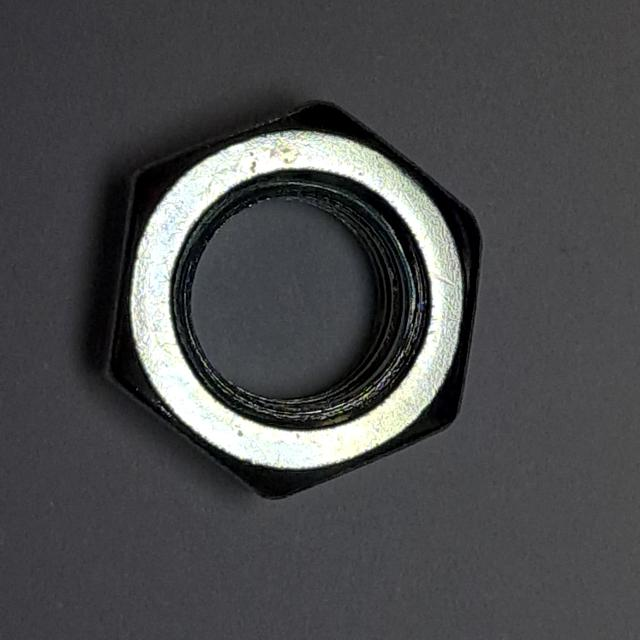Excellent: (85, 81, 494, 516)
